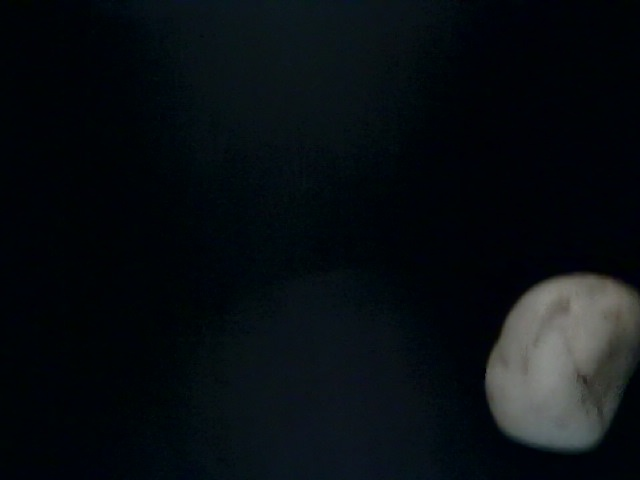QTLJ: (418, 200, 578, 387)
